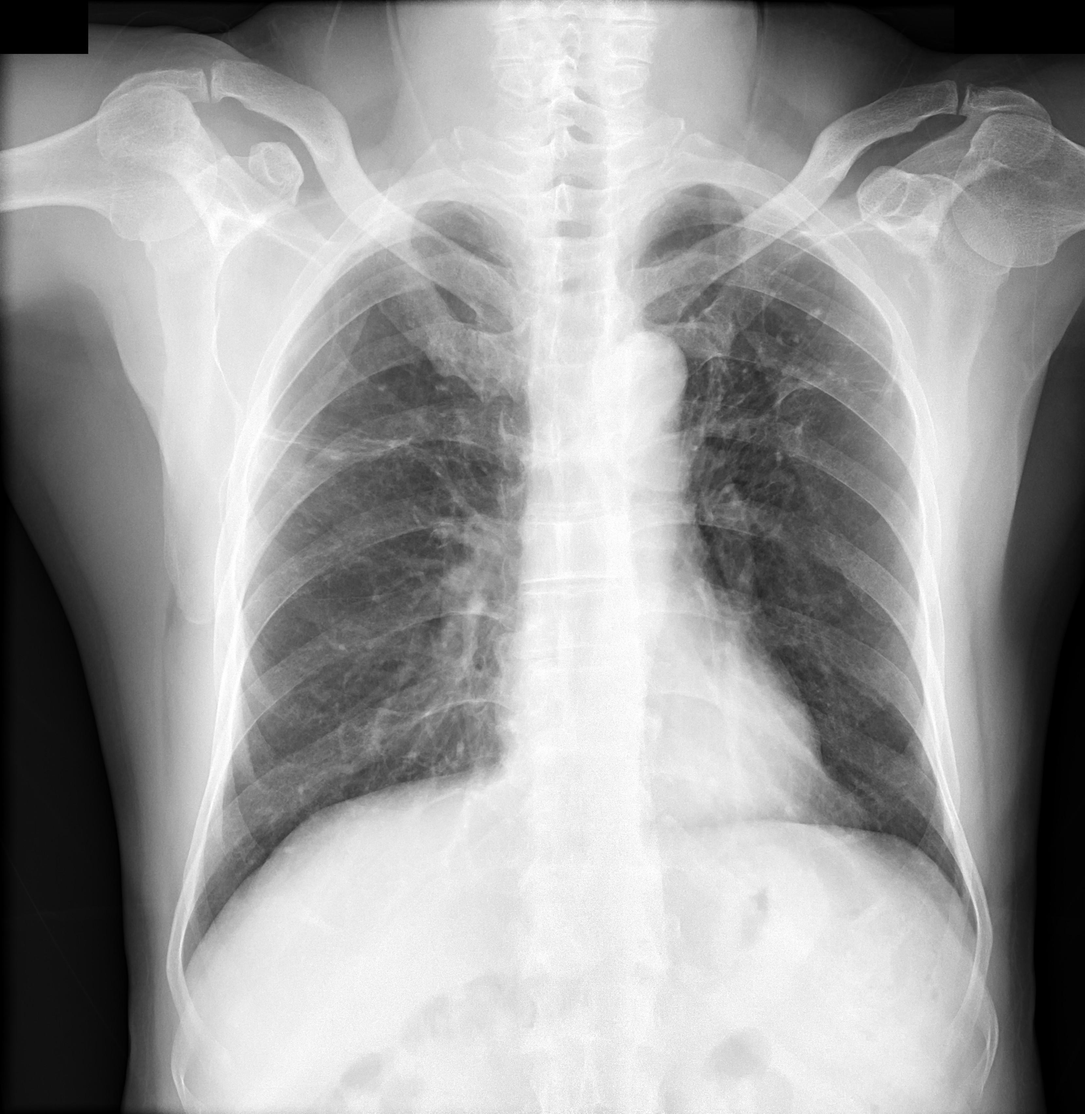Aortic enlargement: (596, 331, 689, 413)
Pleural thickening: (634, 179, 694, 260)
Pulmonary fibrosis: (703, 306, 906, 436), (252, 415, 480, 511)
